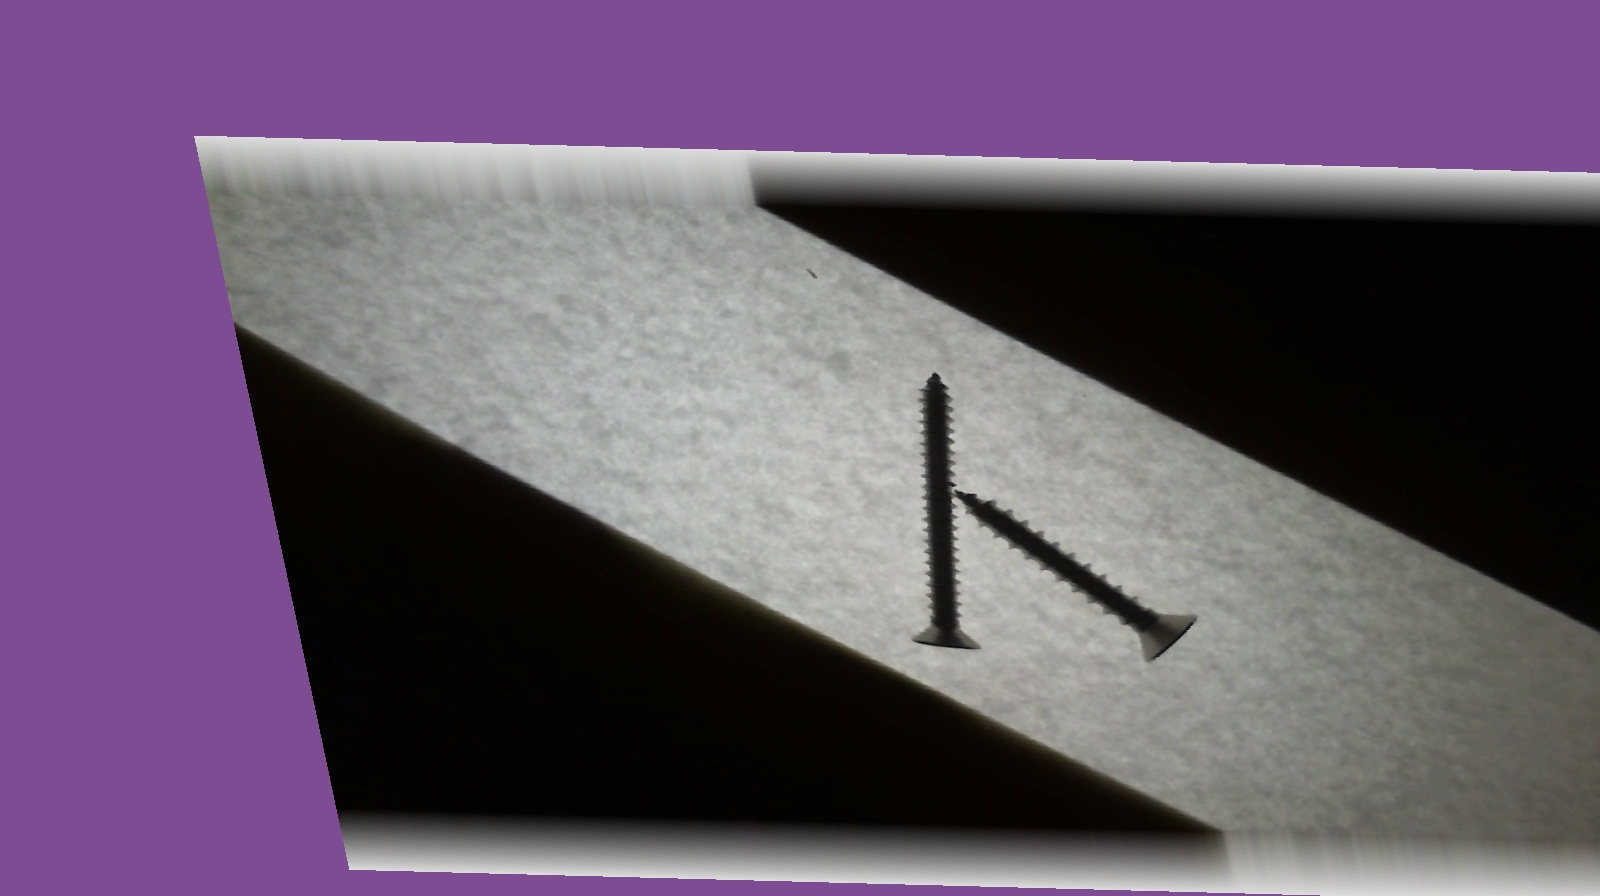S001: (959, 495, 1210, 666)
S002: (856, 372, 1012, 659)
